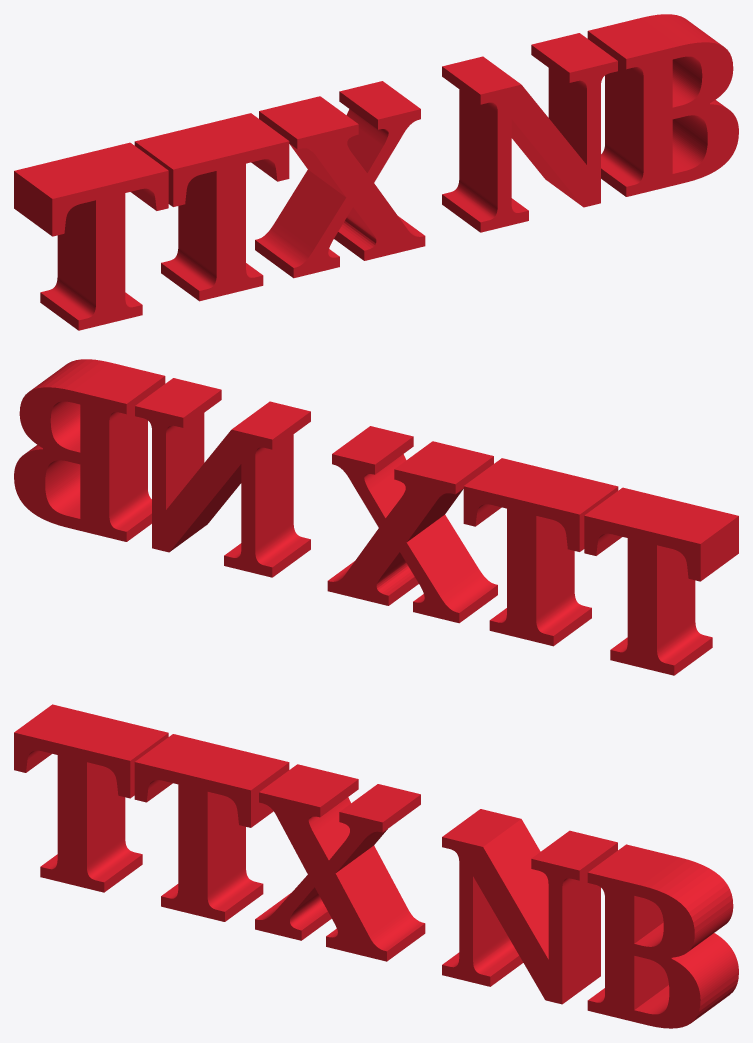
File: tinker.obj
3 renders of one model, top to bottom at view 1: azimuth 30°, elevation 25°; view 2: azimuth 150°, elevation 25°; view 3: azimuth 330°, elevation 25°, orthographic.
Parts seen in each view (by area): view 1: obj_0; view 2: obj_0; view 3: obj_0.
Part boxes in pixels (left/top/right/bottom): obj_0: left=14, top=14, right=738, bottom=330; obj_0: left=14, top=359, right=738, bottom=675; obj_0: left=14, top=704, right=738, bottom=1028.
Bounding box in the file's own units: 103 × 19.82 × 10.
